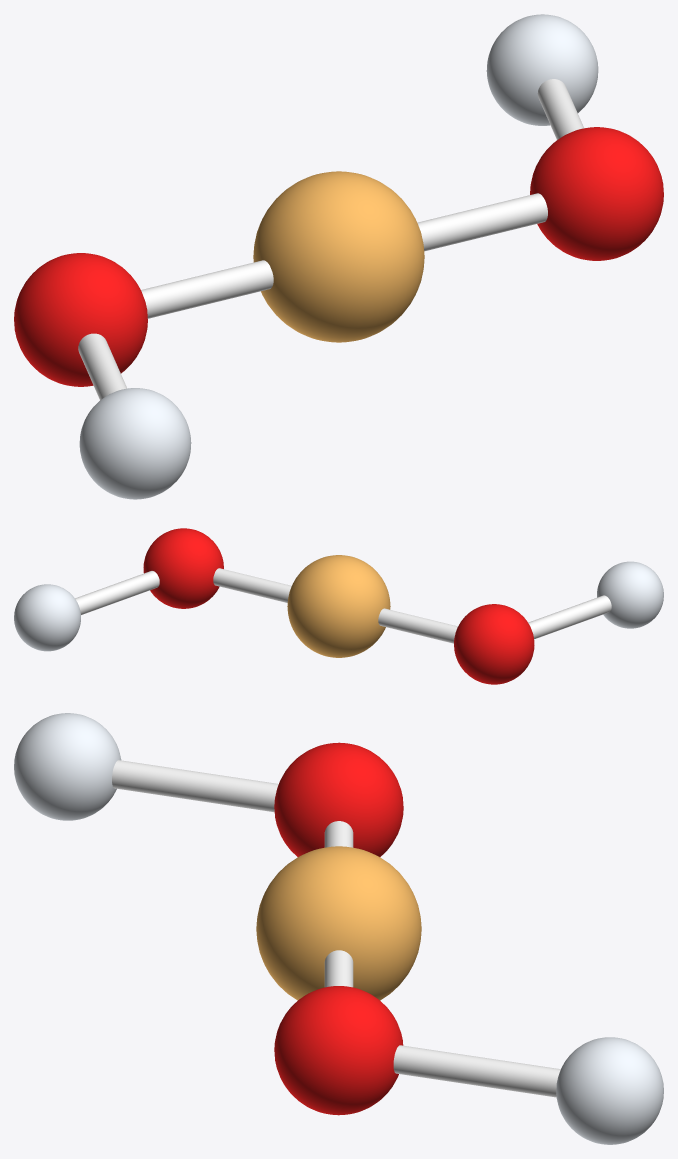
File: calcium_hydroxide.fbx
The picture shows the model from 3 angles, top to bottom: view 1: azimuth 30°, elevation 25°; view 2: azimuth 150°, elevation 25°; view 3: azimuth 270°, elevation 25°; orthographic projection. The views are drawn at different scales.
Visible parts, largest first — view 1: calcium_hydroxide; view 2: calcium_hydroxide; view 3: calcium_hydroxide.
Boxes of the visible parts, x1=… form: calcium_hydroxide: x1=14, y1=14, x2=663, y2=499; calcium_hydroxide: x1=14, y1=528, x2=663, y2=684; calcium_hydroxide: x1=14, y1=713, x2=663, y2=1144.
Size of the model in its own units: 243 by 46 by 181.
